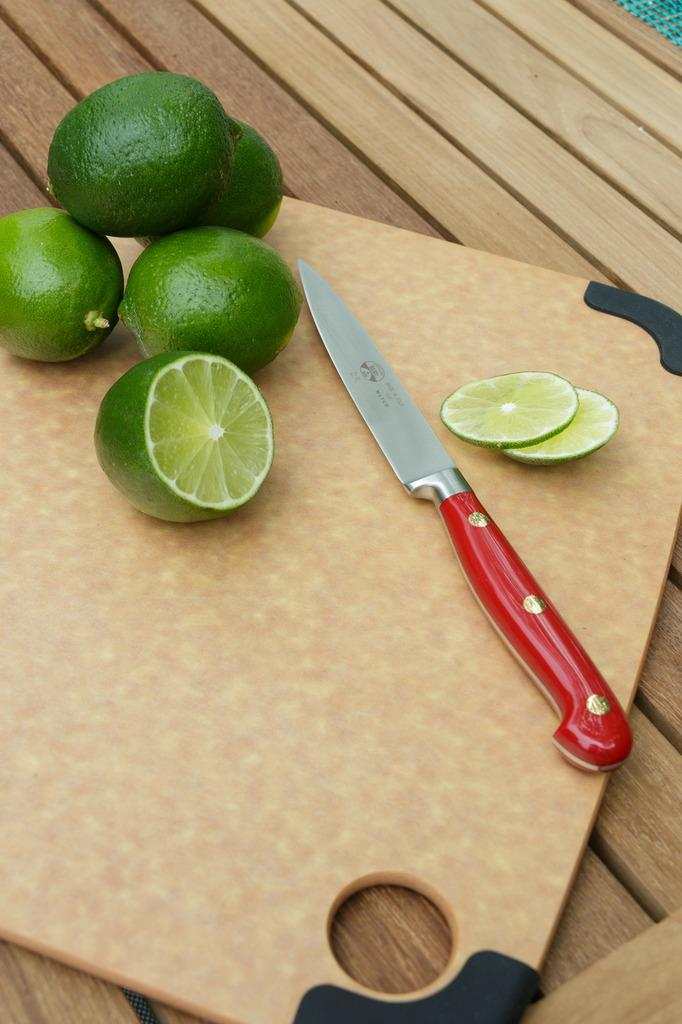Knife: (295, 258, 633, 772)
